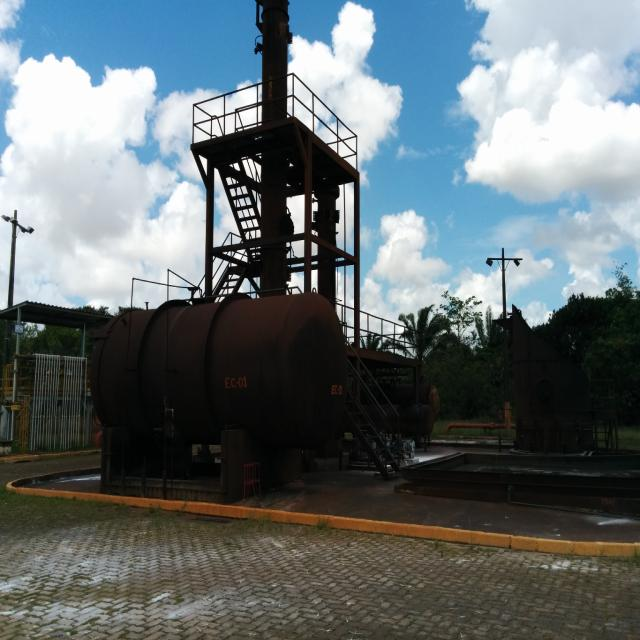no_fire: (1, 14, 640, 634)
